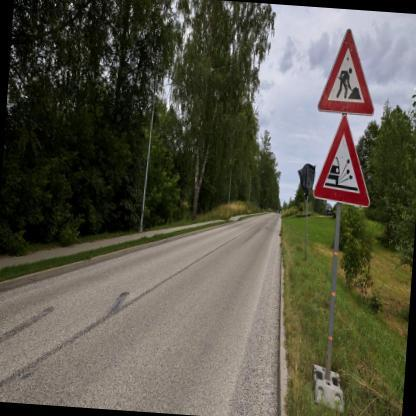road_sign: (313, 115, 369, 206), (319, 29, 373, 113)
